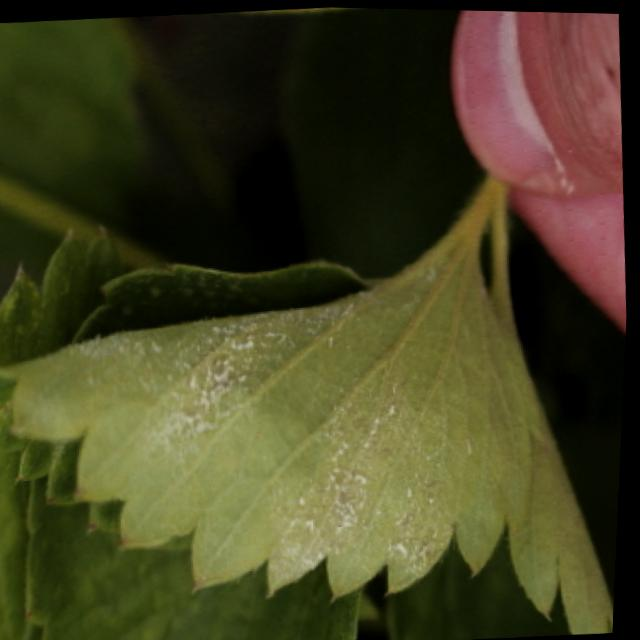Powdery Mildew Leaf: (0, 198, 558, 602)
